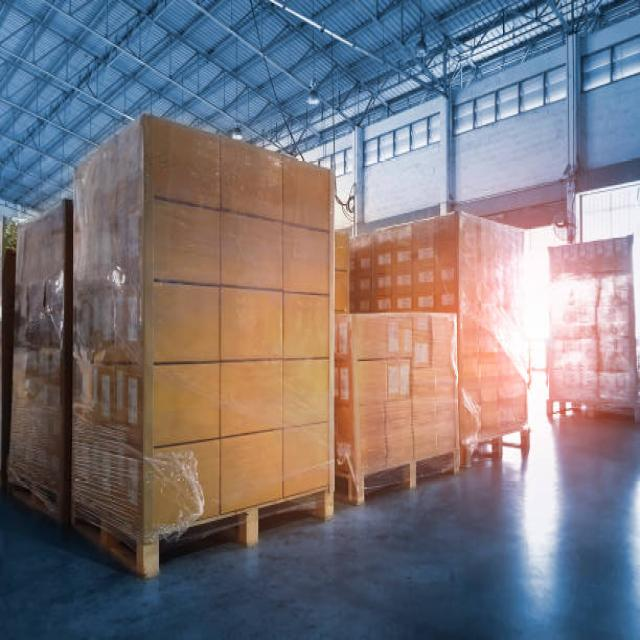Wooden-Pallets: (65, 476, 338, 596), (347, 439, 462, 509)
